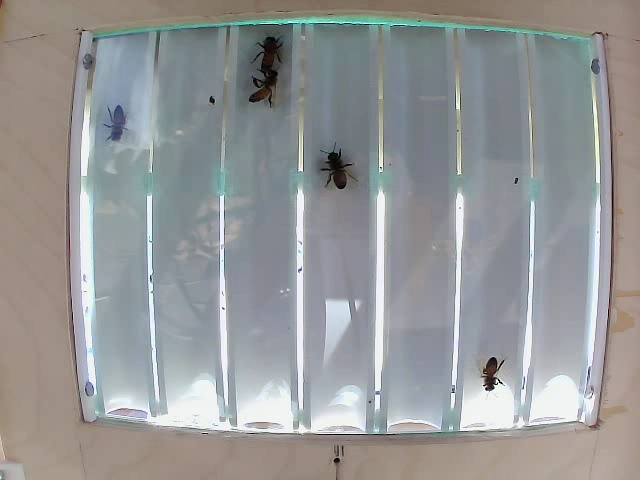bee: (314, 139, 362, 198), (242, 73, 292, 112), (485, 358, 524, 401), (253, 31, 293, 70), (110, 98, 139, 148)
